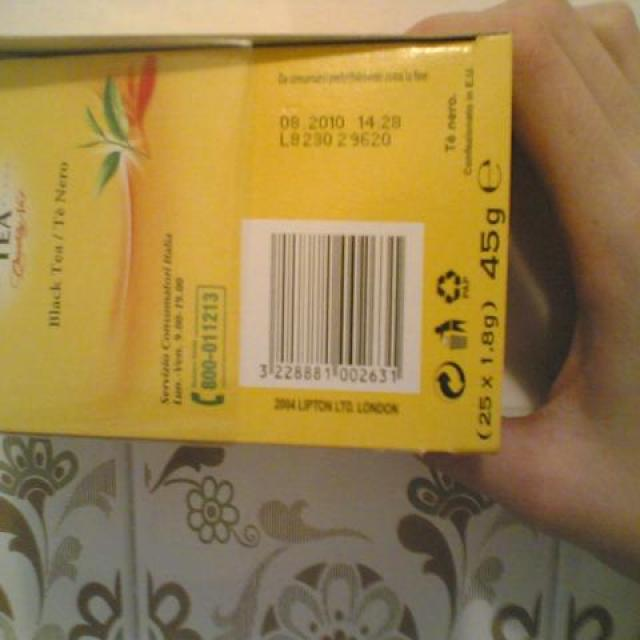Barcode: (241, 218, 423, 386)
